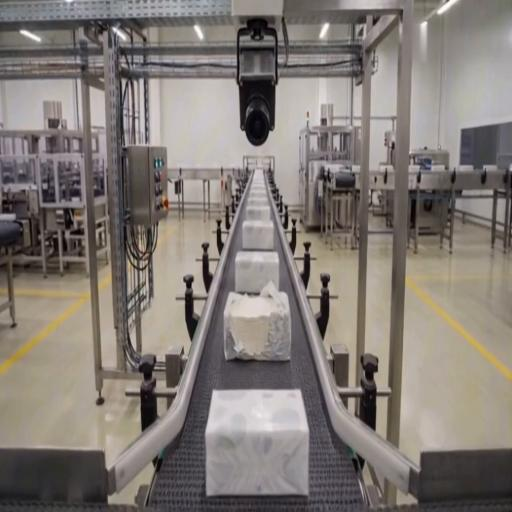defective: (206, 388, 309, 497), (222, 284, 292, 361), (241, 219, 276, 251)
good: (234, 250, 280, 296), (246, 196, 272, 218), (247, 181, 270, 199), (248, 170, 267, 184), (0, 212, 16, 222), (432, 164, 446, 172), (482, 165, 496, 172), (458, 165, 473, 171)
